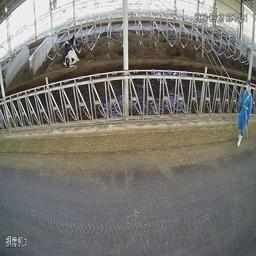cow: (60, 35, 82, 70)
